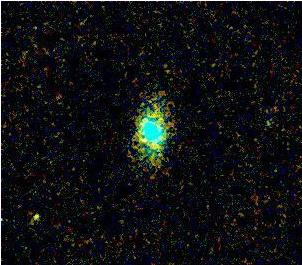star: (21, 202, 51, 232)
